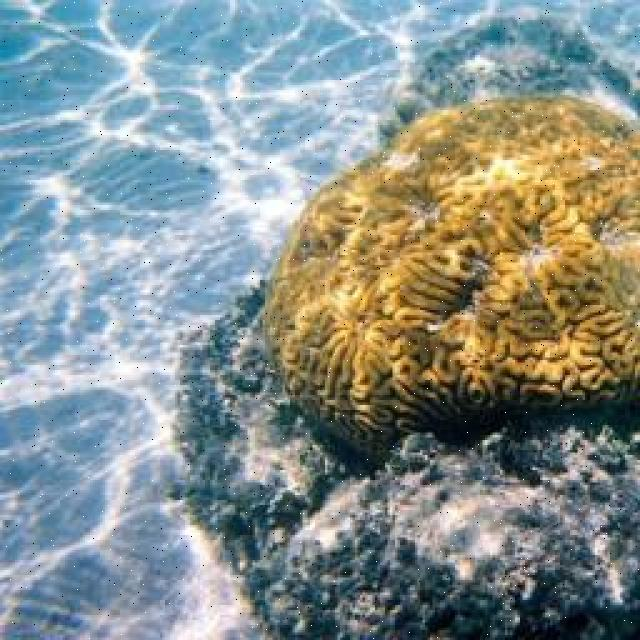reefs: (265, 92, 638, 460)
sea-floor: (171, 277, 638, 638), (382, 13, 638, 146)
